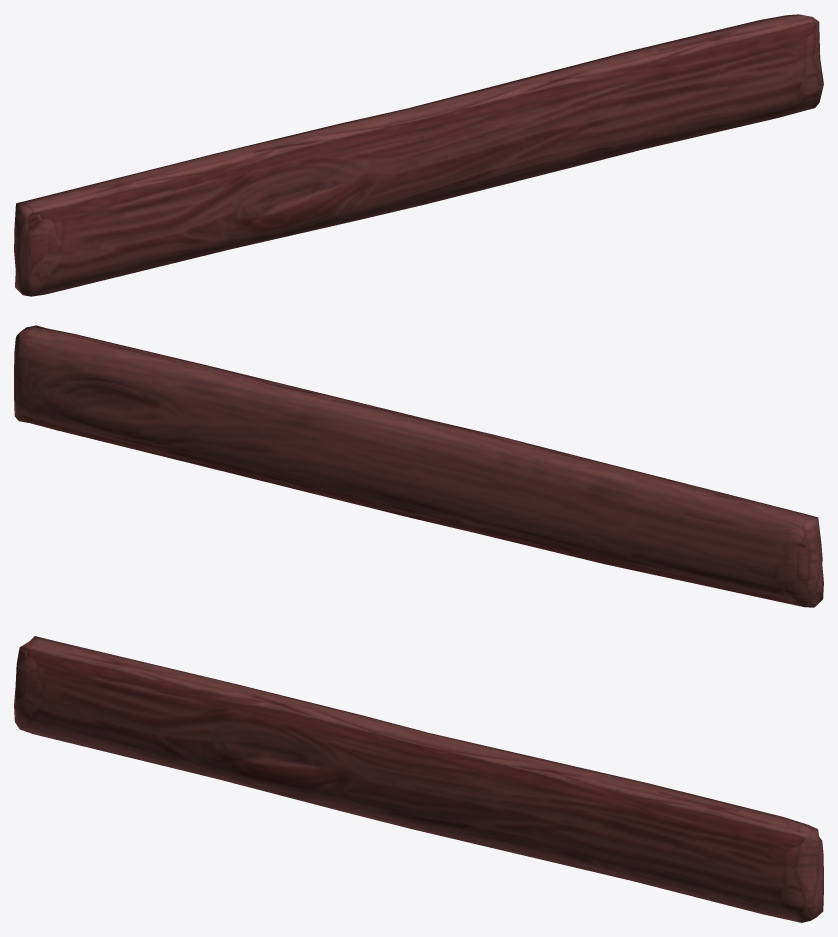
The model's file is MOD_WoodBeam.fbx.
3 views of the same model, one above another, from view 1: azimuth 30°, elevation 25°; view 2: azimuth 150°, elevation 25°; view 3: azimuth 330°, elevation 25° (orthographic).
Parts seen in each view (by area): view 1: MOD_WoodBeam; view 2: MOD_WoodBeam; view 3: MOD_WoodBeam.
Part boxes in pixels (bbox=[...]): MOD_WoodBeam: bbox=[14, 14, 823, 296]; MOD_WoodBeam: bbox=[14, 325, 823, 607]; MOD_WoodBeam: bbox=[14, 636, 823, 922].
Size of the model in its own units: 549 by 62.74 by 33.22.
Materials: 1 (1 with a texture image).
